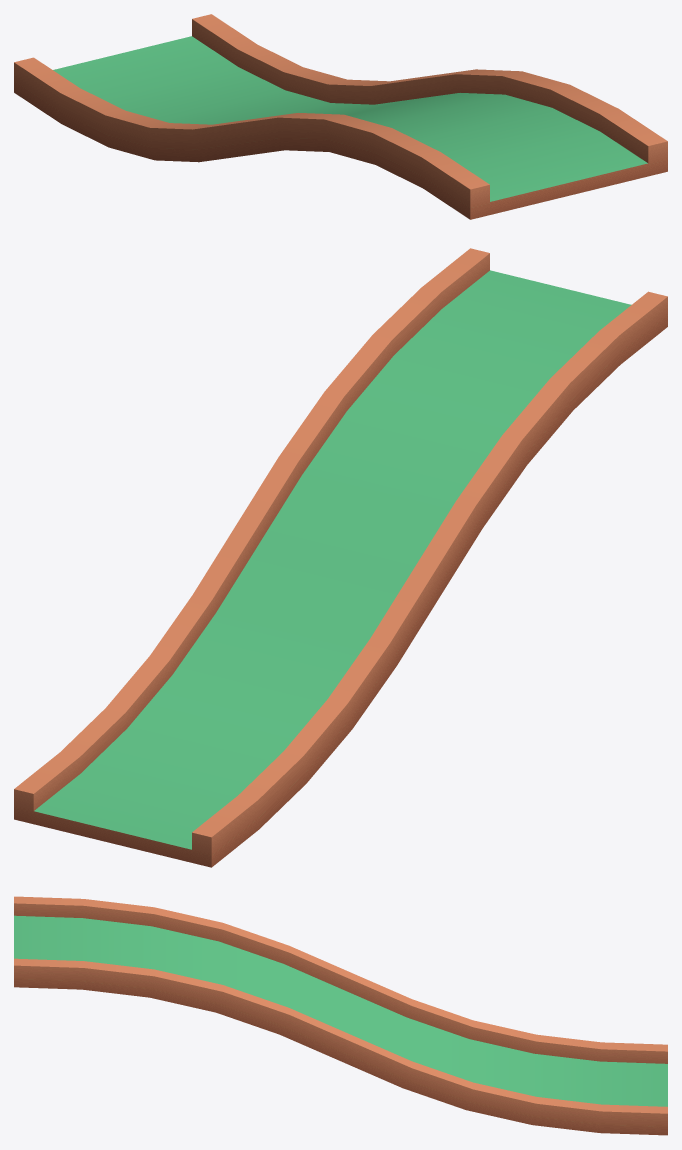
The model's file is spline_default_straight_hill_complete.glb.
The picture shows the model from 3 angles, top to bottom: view 1: azimuth 30°, elevation 25°; view 2: azimuth 150°, elevation 25°; view 3: azimuth 270°, elevation 25°; orthographic projection. The views are drawn at different scales.
Visible parts, largest first — view 1: spline-default-straight-hill-complete; view 2: spline-default-straight-hill-complete; view 3: spline-default-straight-hill-complete.
Part boxes in pixels (x1,y1,x2,y2): spline-default-straight-hill-complete: (14,14,667,219); spline-default-straight-hill-complete: (14,248,667,867); spline-default-straight-hill-complete: (14,896,667,1135).
Bounding box in the file's own units: 0.9999 × 1.15 × 4.
1 material, 1 textured.
